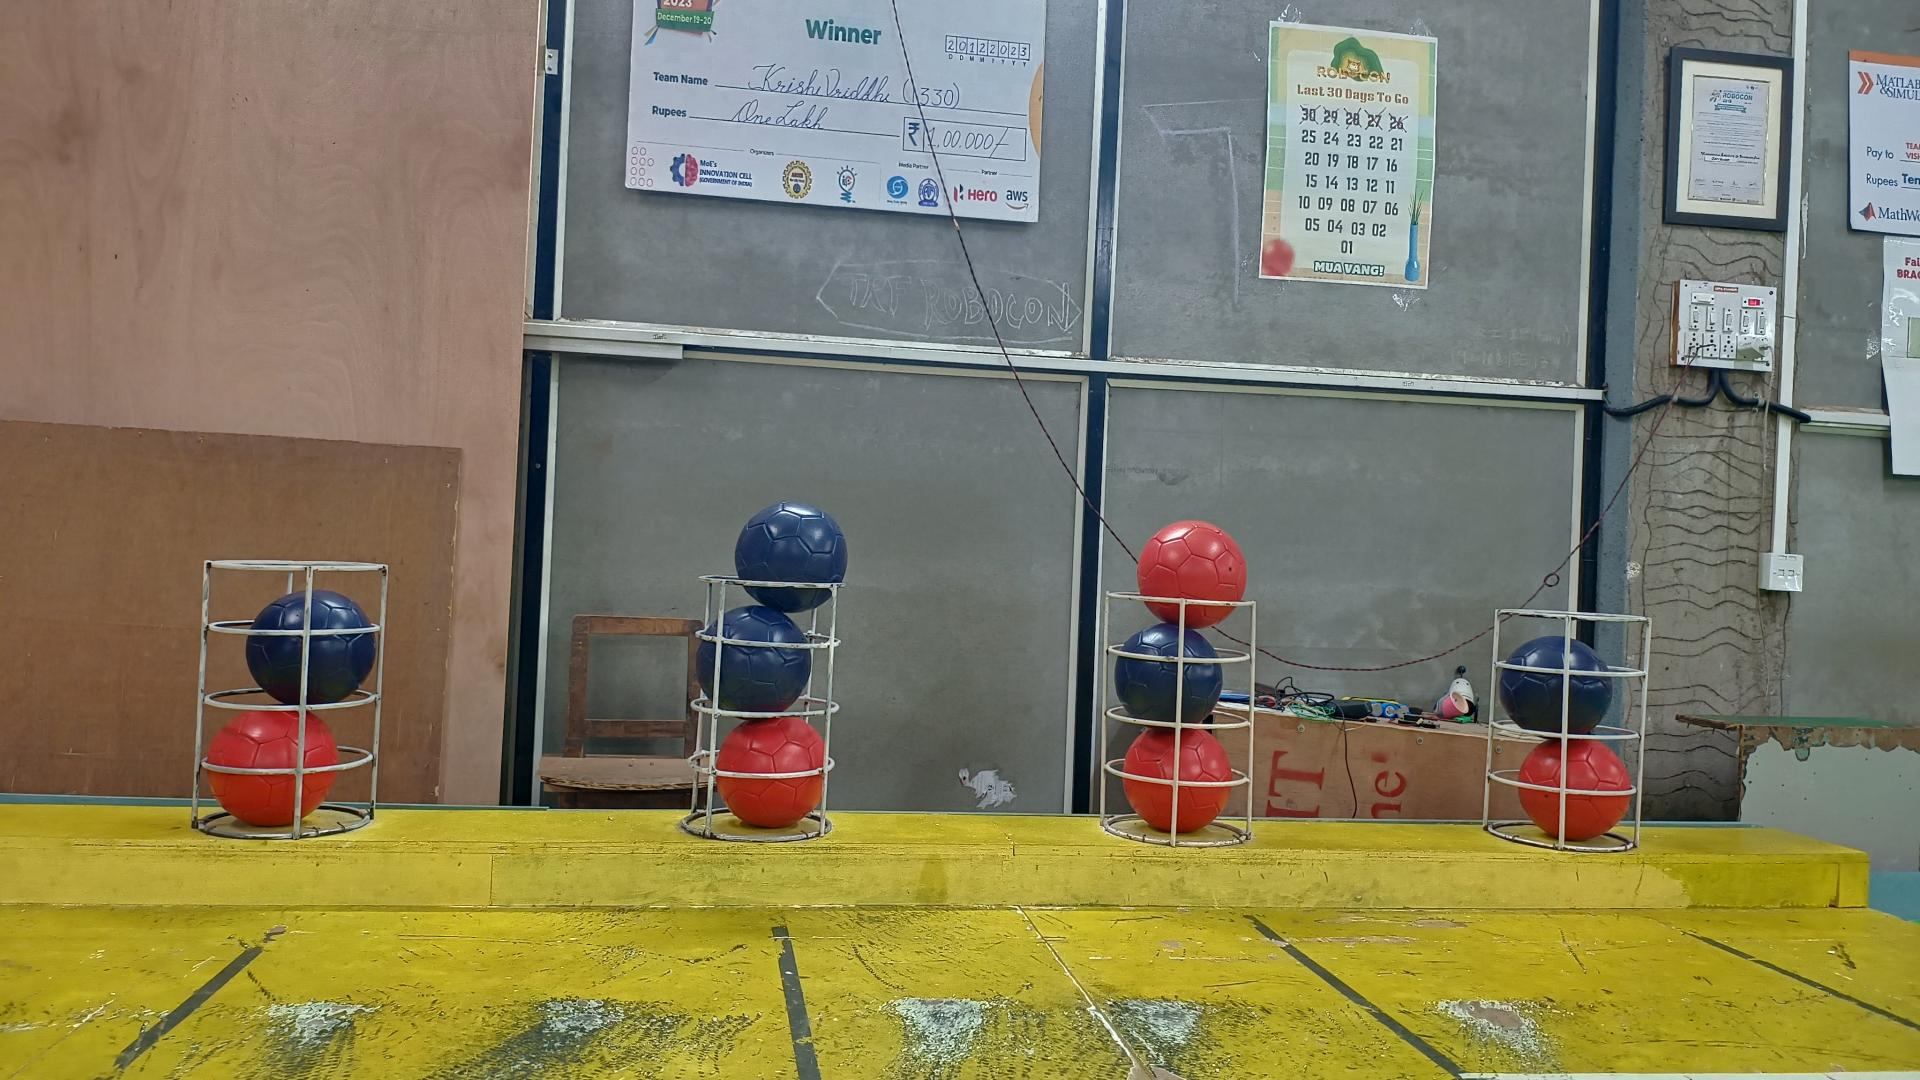dhoka: (240, 596, 372, 712), (735, 501, 847, 615), (694, 608, 810, 717), (1501, 634, 1613, 736), (1114, 625, 1222, 727)
laale: (199, 716, 334, 832), (1137, 521, 1250, 630), (719, 717, 828, 829), (1121, 727, 1233, 832), (1519, 740, 1631, 841)
